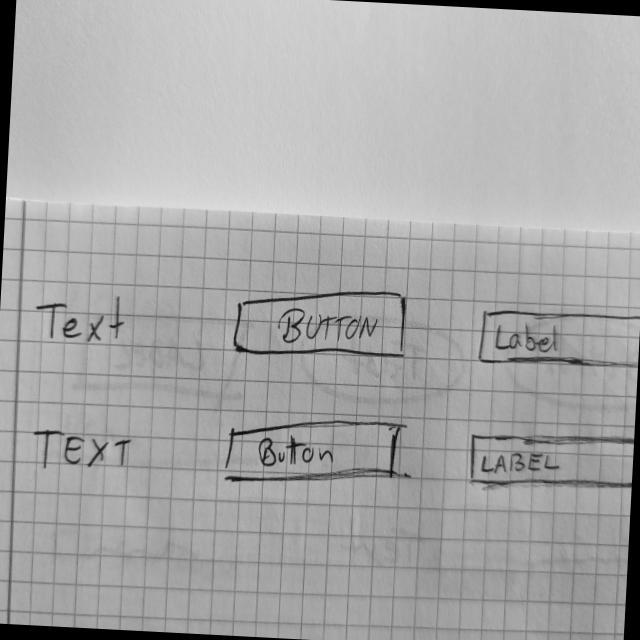button: (231, 280, 412, 368), (223, 410, 405, 495)
input: (463, 425, 636, 498), (474, 303, 640, 377)
label: (35, 288, 129, 351), (31, 428, 134, 479)
